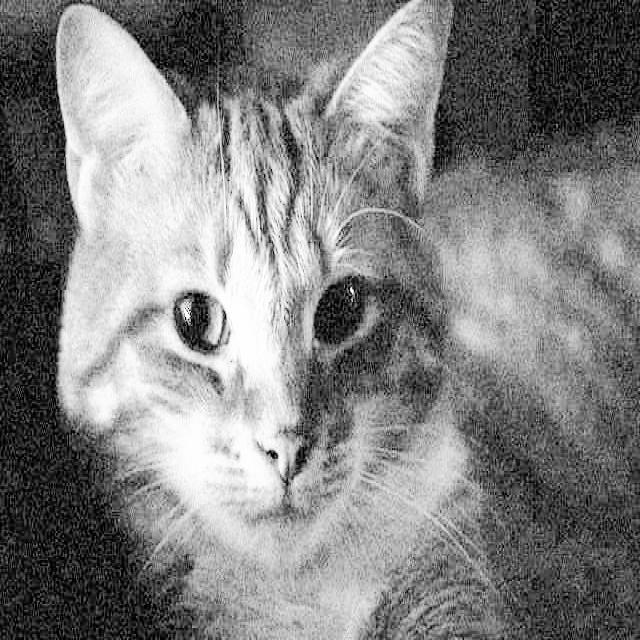Cat: (54, 7, 640, 640)
